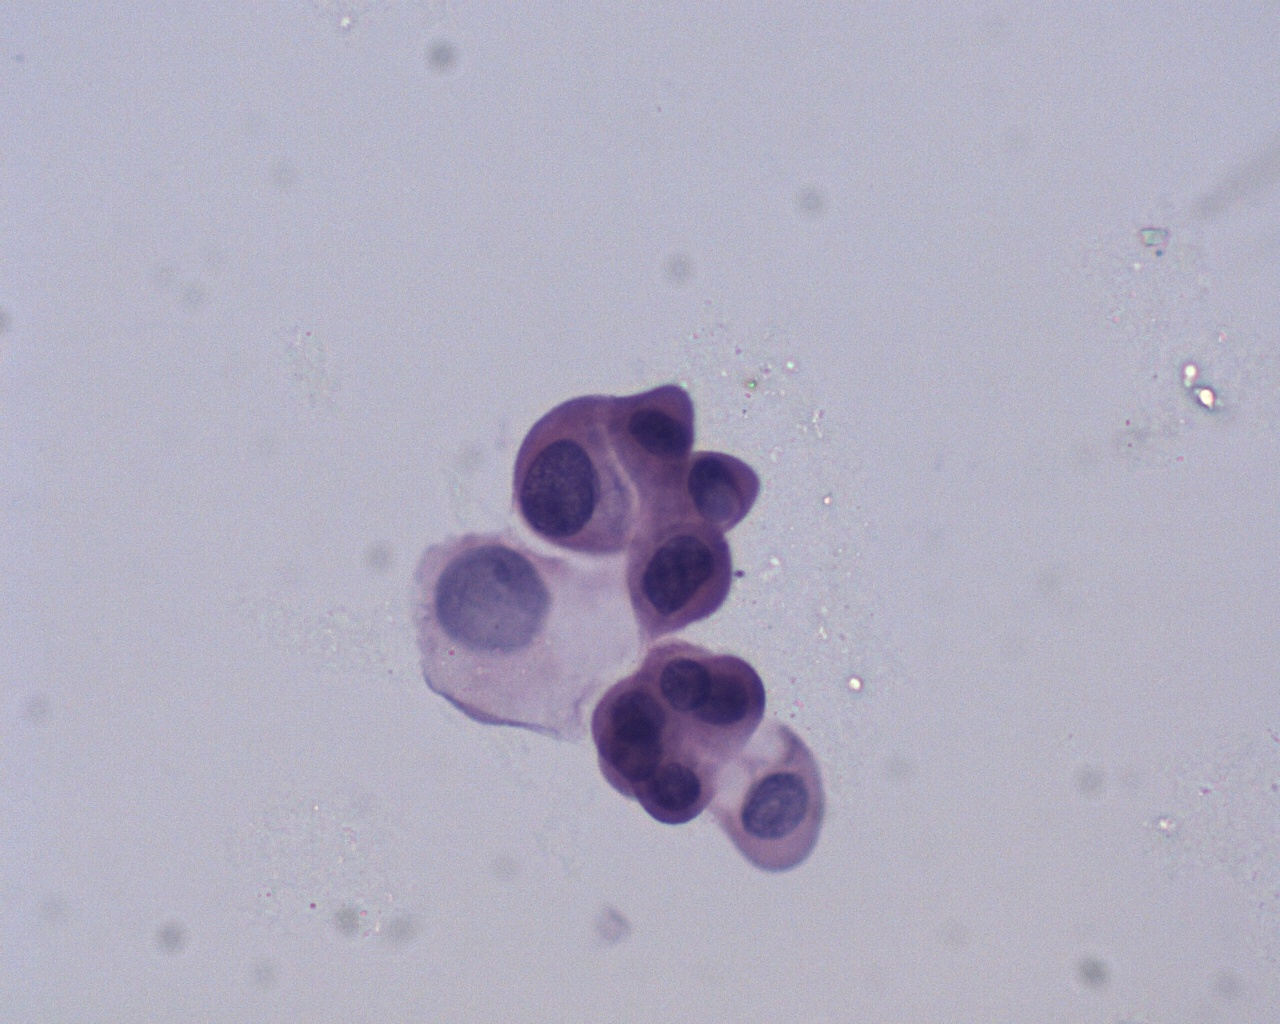ab: (507, 393, 637, 560), (622, 518, 735, 635), (611, 380, 697, 492), (678, 447, 764, 537), (630, 743, 719, 827)
